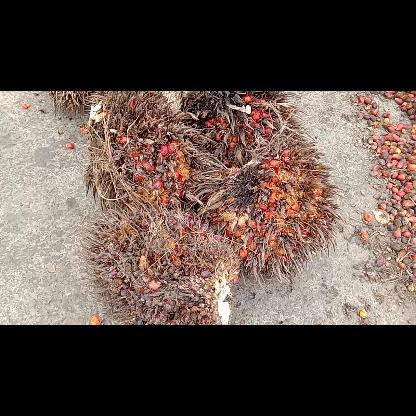Terlalu masak: (206, 136, 344, 282), (80, 202, 238, 324), (87, 90, 207, 209), (184, 91, 308, 165)
